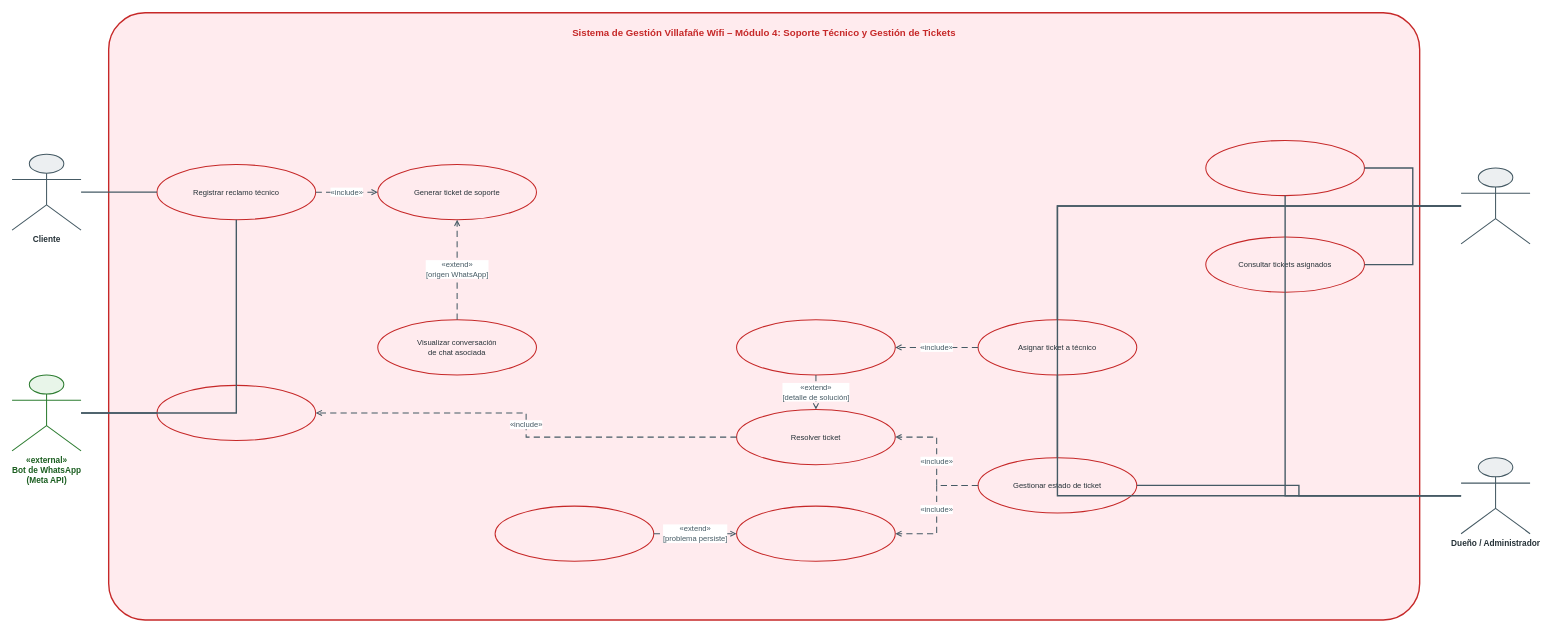
Some shapes in this 1553 by 633 pixel diagram are drawn without their labels. The centre of each missing label's shape, as x and y in pixels:
"Agregar nota interna" goes at (815,347).
"Cerrar ticket" goes at (815,533).
"Empleado" goes at (1495,205).
"Filtrar y listar tickets" goes at (1285,168).
"Notificar novedad por WhatsApp" goes at (236,413).
"Reabrir ticket" goes at (574,533).
